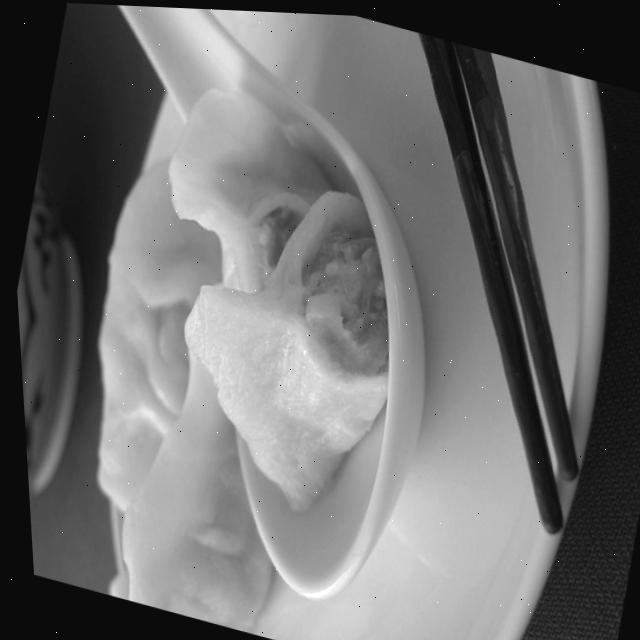带馅早点: (2, 33, 498, 640)
